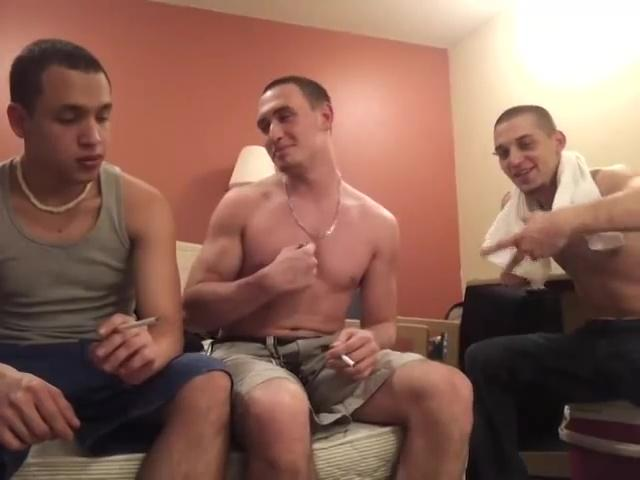cigarette: (110, 315, 162, 335), (338, 352, 358, 370)
